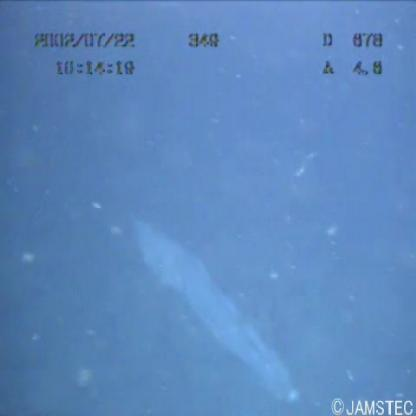Rác: (109, 204, 309, 404)
